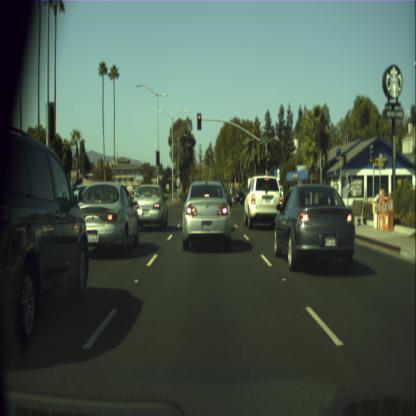Red: (197, 113, 202, 130), (320, 126, 324, 147), (266, 155, 269, 168)
off: (156, 150, 160, 166)
